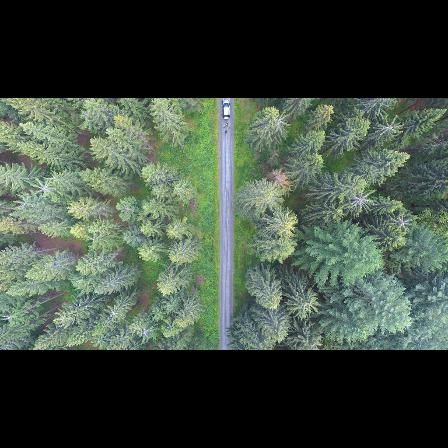Sick: (371, 116, 408, 144), (345, 189, 377, 214), (390, 209, 416, 236), (134, 322, 155, 344), (105, 304, 125, 326)
